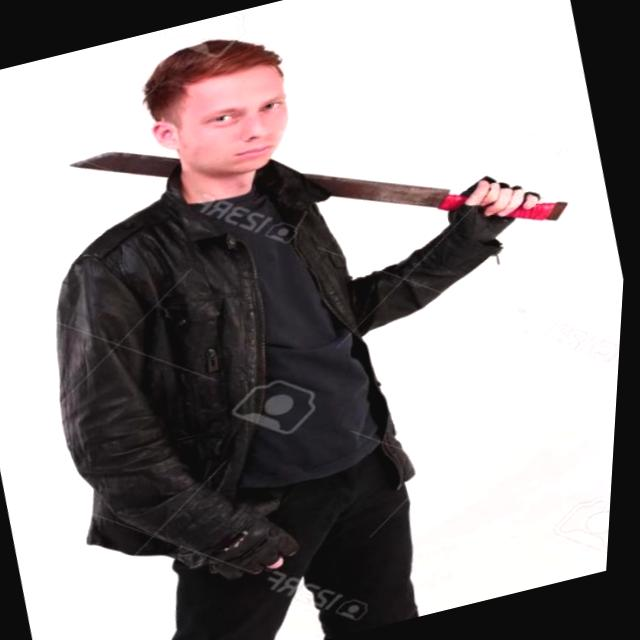long knife: (53, 38, 600, 354)
